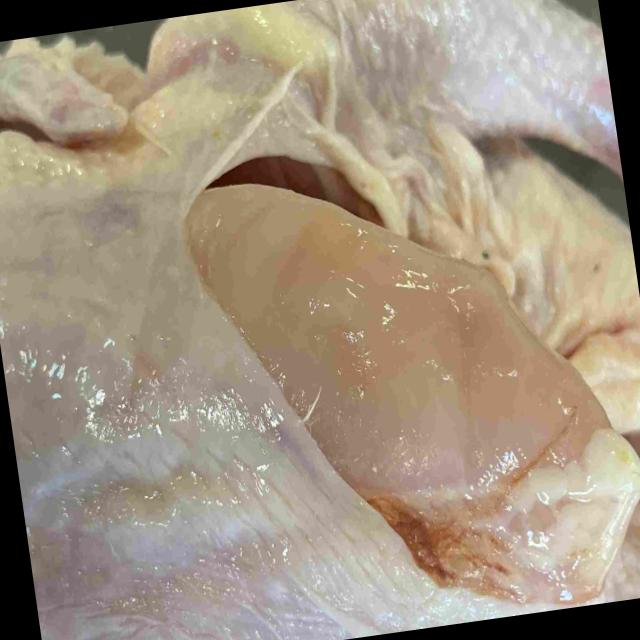breast: (0, 163, 634, 640)
leg: (126, 0, 622, 188)
